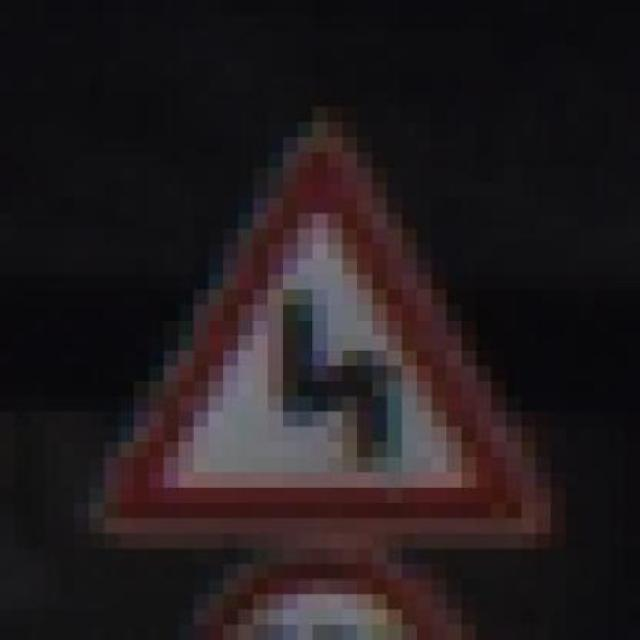Left Zig Zag Traffic: (59, 107, 566, 564)
